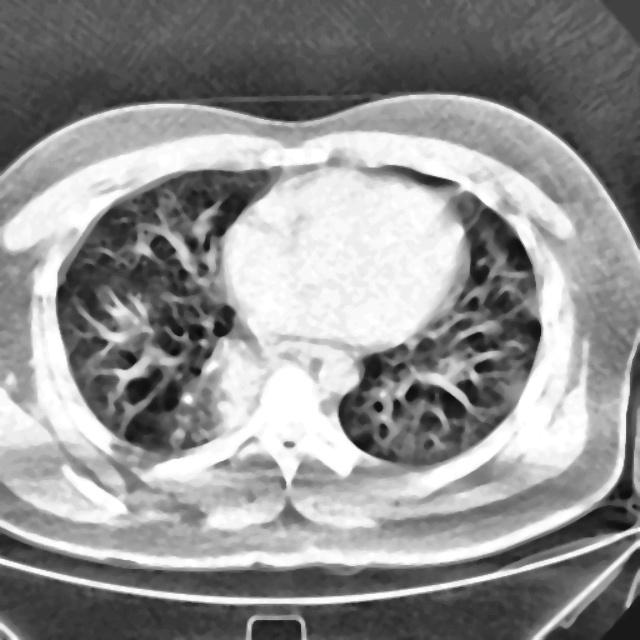covid: (0, 93, 638, 575)
